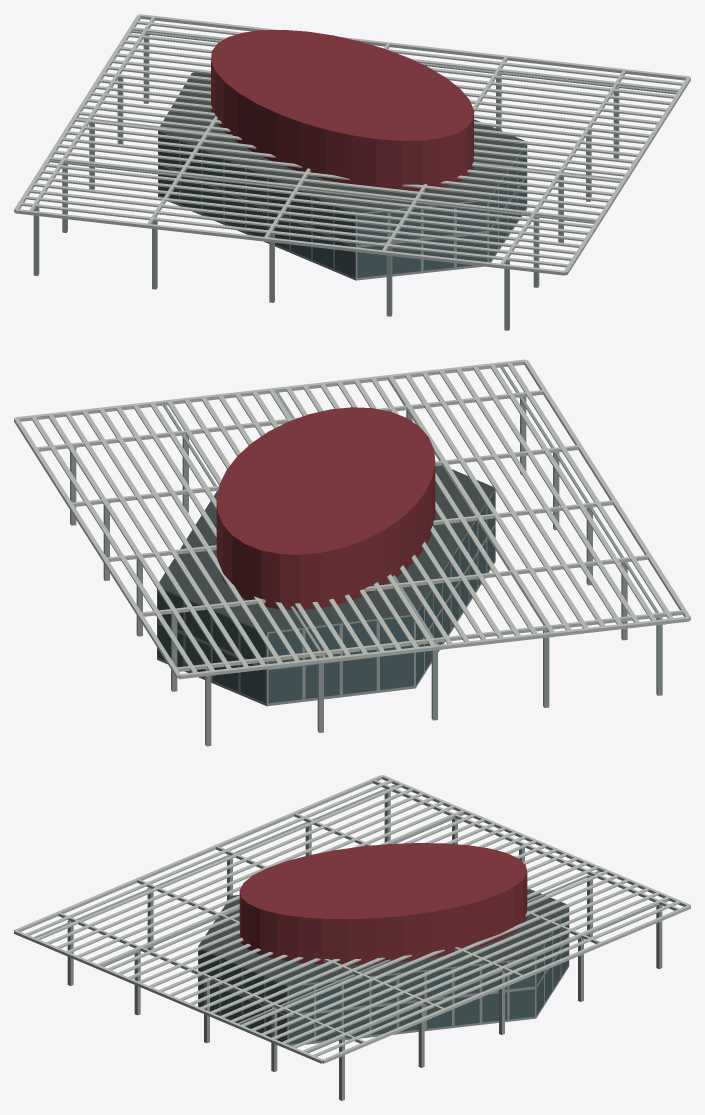
File: winspear-opera-house-far.glb
3 views of the same model, one above another, from view 1: azimuth 30°, elevation 25°; view 2: azimuth 150°, elevation 25°; view 3: azimuth 270°, elevation 25° (orthographic). The views are drawn at different scales.
Parts seen in each view (by area): view 1: winspear-opera-house-0-roof, winspear-opera-house-0-brick, winspear-opera-house-0-glass, winspear-opera-house-0-metal, winspear-opera-house-0-dark; view 2: winspear-opera-house-0-roof, winspear-opera-house-0-brick, winspear-opera-house-0-glass, winspear-opera-house-0-metal, winspear-opera-house-0-dark; view 3: winspear-opera-house-0-roof, winspear-opera-house-0-brick, winspear-opera-house-0-glass, winspear-opera-house-0-metal, winspear-opera-house-0-dark.
Part boxes in pixels (left/top/right/bottom): winspear-opera-house-0-roof: left=14, top=14, right=690, bottom=275; winspear-opera-house-0-brick: left=211, top=29, right=473, bottom=190; winspear-opera-house-0-glass: left=159, top=132, right=526, bottom=277; winspear-opera-house-0-metal: left=33, top=30, right=676, bottom=330; winspear-opera-house-0-dark: left=160, top=72, right=525, bottom=212; winspear-opera-house-0-roof: left=14, top=359, right=690, bottom=679; winspear-opera-house-0-brick: left=216, top=407, right=435, bottom=610; winspear-opera-house-0-glass: left=158, top=490, right=495, bottom=703; winspear-opera-house-0-metal: left=49, top=367, right=665, bottom=746; winspear-opera-house-0-dark: left=159, top=465, right=494, bottom=632; winspear-opera-house-0-roof: left=14, top=775, right=690, bottom=1063; winspear-opera-house-0-brick: left=239, top=843, right=527, bottom=964; winspear-opera-house-0-glass: left=199, top=908, right=568, bottom=1044; winspear-opera-house-0-metal: left=34, top=784, right=669, bottom=1100; winspear-opera-house-0-dark: left=198, top=889, right=567, bottom=985.
Bounding box in the file's own units: 184 × 32 × 184.
